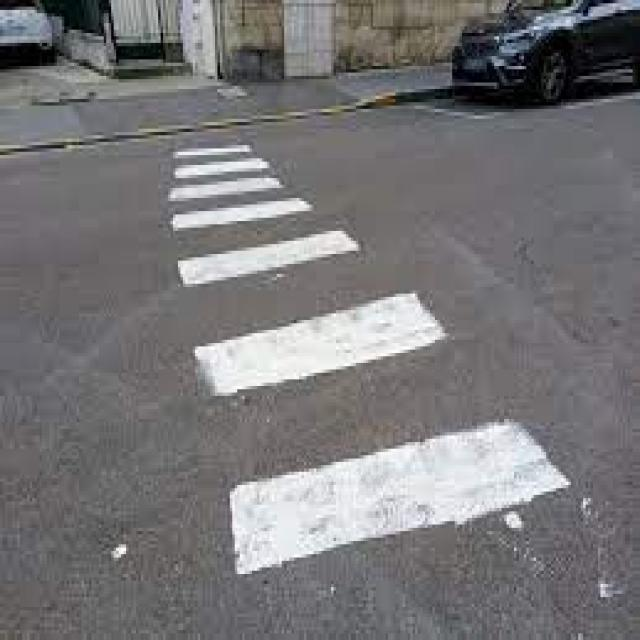crosswalk: (156, 127, 617, 635)
